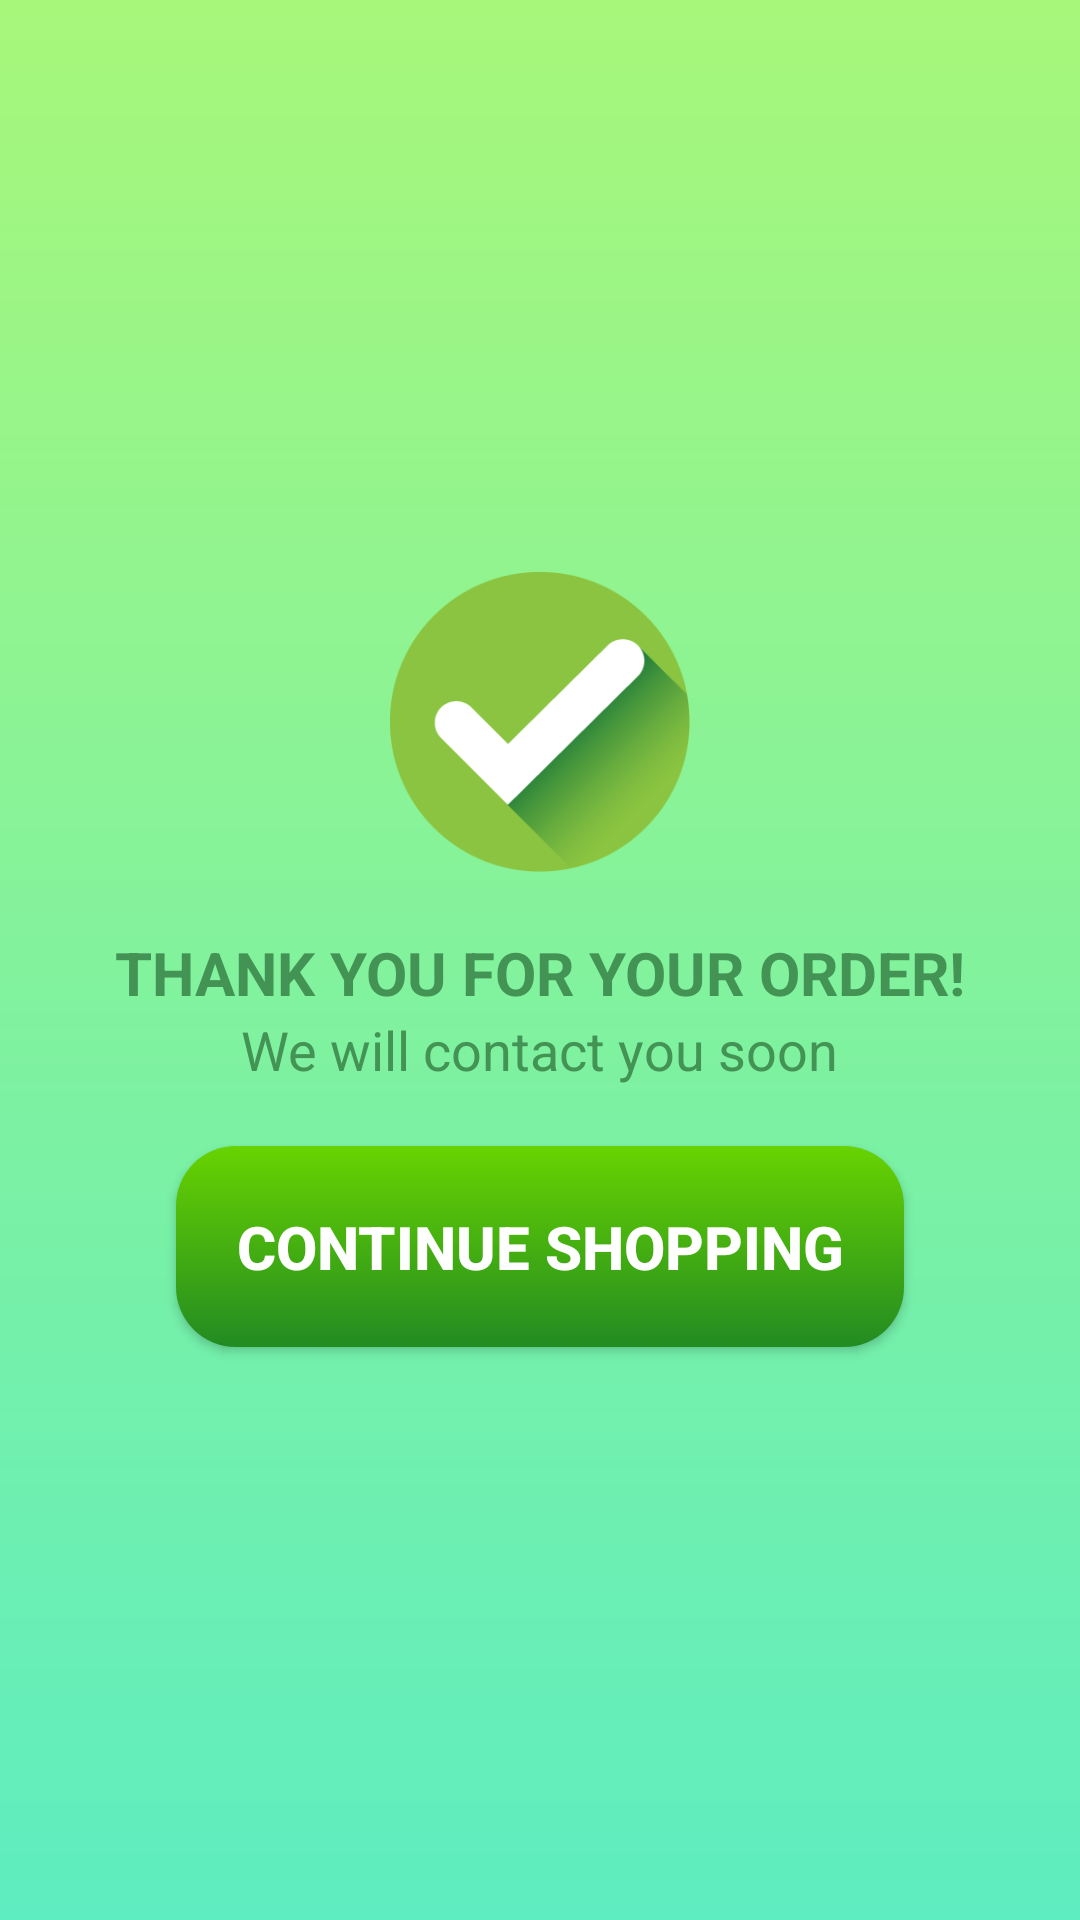

Point at icon controls on the screen. Image size 1080x1920, points as (x,y).
check mark: (540,722)
